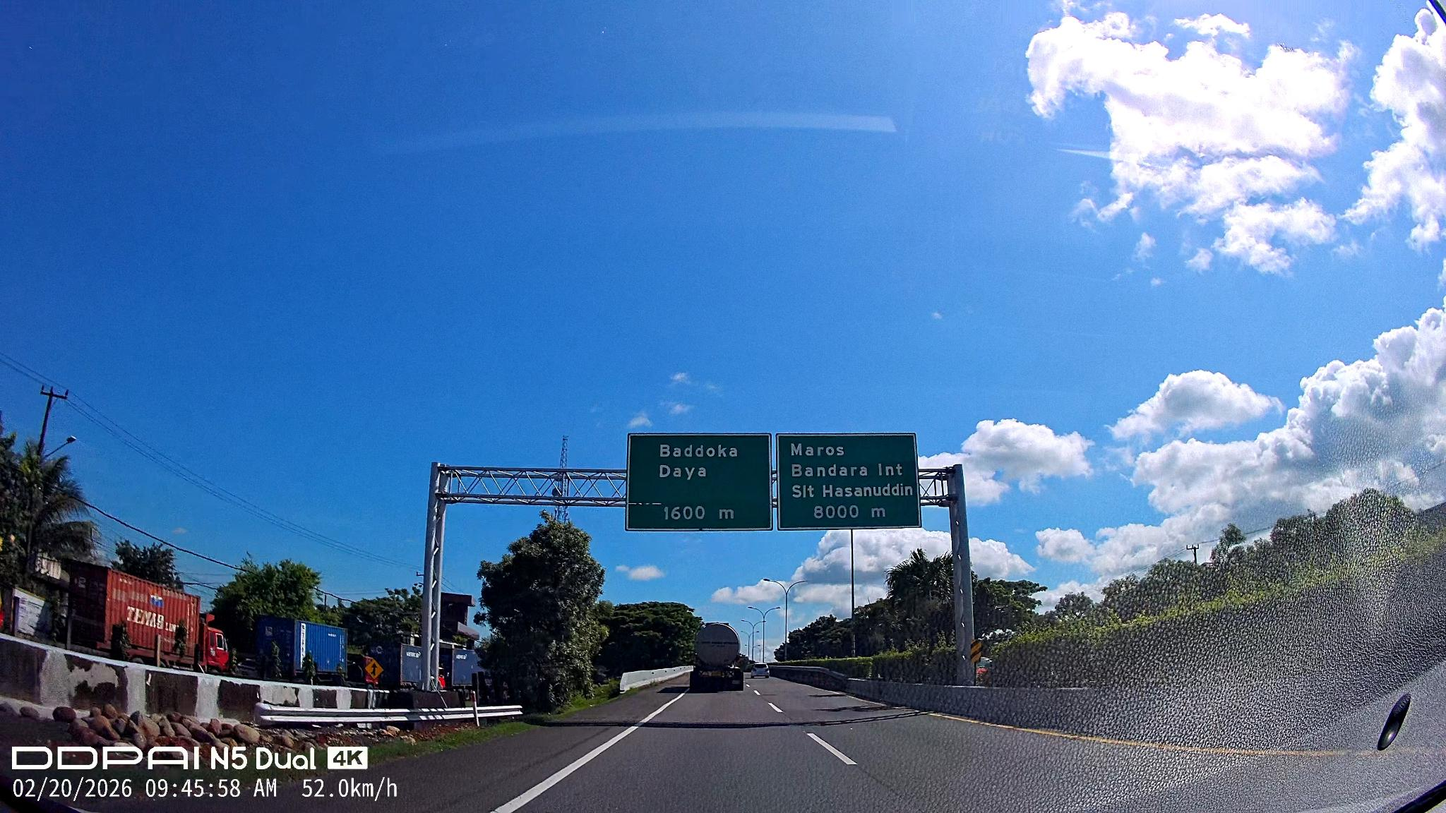rambu_teks: (624, 432, 774, 532), (775, 432, 924, 532)
